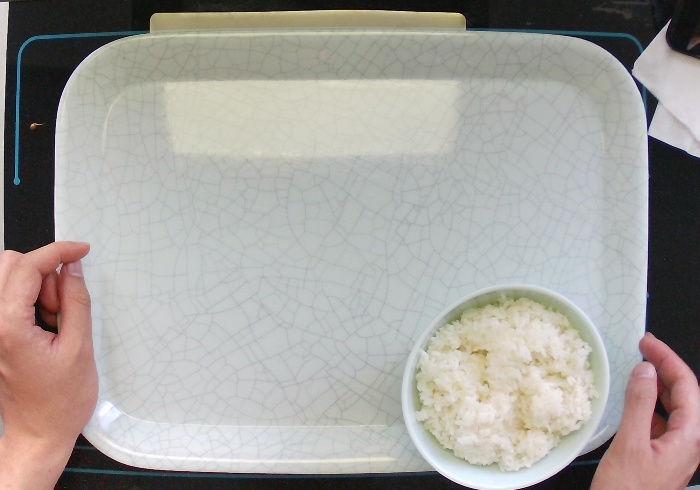JYsf-Fan_Wan: (388, 277, 616, 488)
